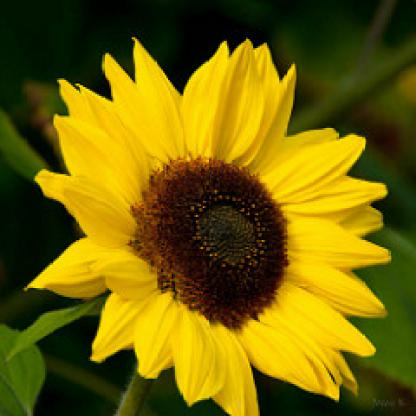SUN FLOWER: (46, 33, 395, 405)
